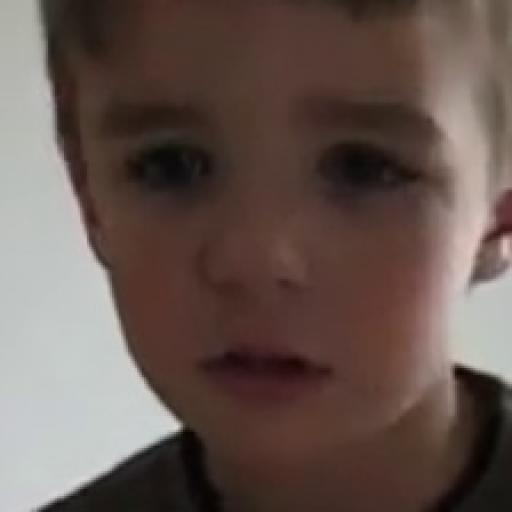Autism: (66, 25, 509, 456)
